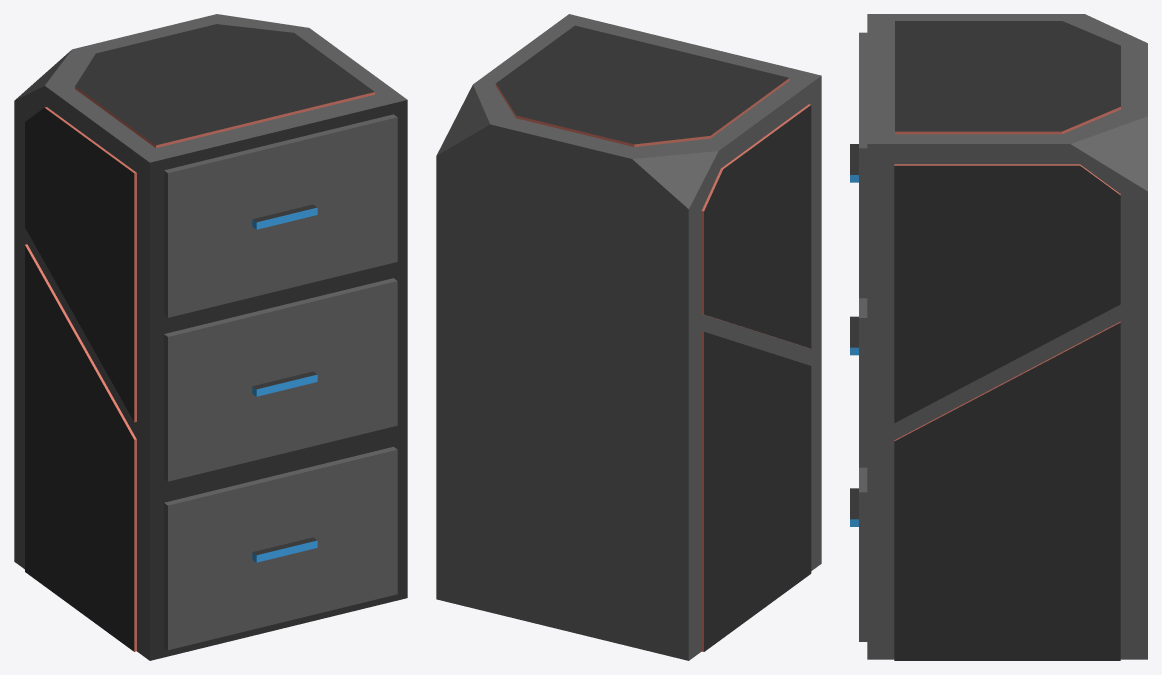
File: Cabinet_1.fbx
3 views of the same model, side by side, from view 1: azimuth 30°, elevation 25°; view 2: azimuth 150°, elevation 25°; view 3: azimuth 270°, elevation 25° (orthographic). The views are drawn at different scales.
Parts seen in each view (by area): view 1: Cabinet_1; view 2: Cabinet_1; view 3: Cabinet_1.
Part boxes in pixels (x1=…): Cabinet_1: x1=14, y1=14, x2=407, y2=660; Cabinet_1: x1=436, y1=14, x2=821, y2=660; Cabinet_1: x1=850, y1=14, x2=1147, y2=660.
Size of the model in its own units: 100 by 183 by 95.04.
